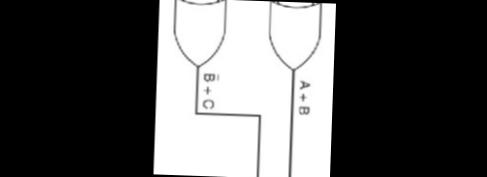or: (262, 1, 328, 71), (166, 0, 228, 68)
